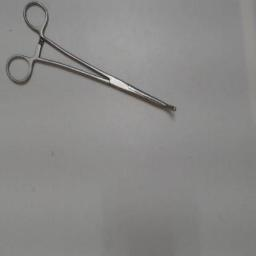Lahey Forceps: (2, 0, 182, 118)
